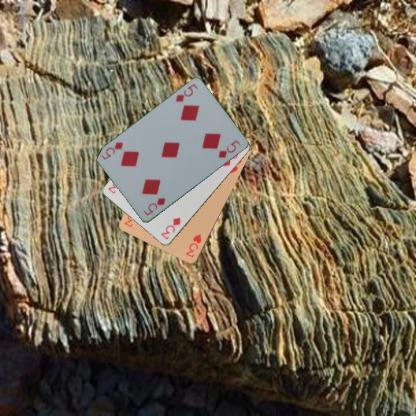3d: (158, 215, 182, 241)
3h: (183, 232, 203, 259)
5d: (140, 196, 166, 218), (173, 82, 199, 103)
